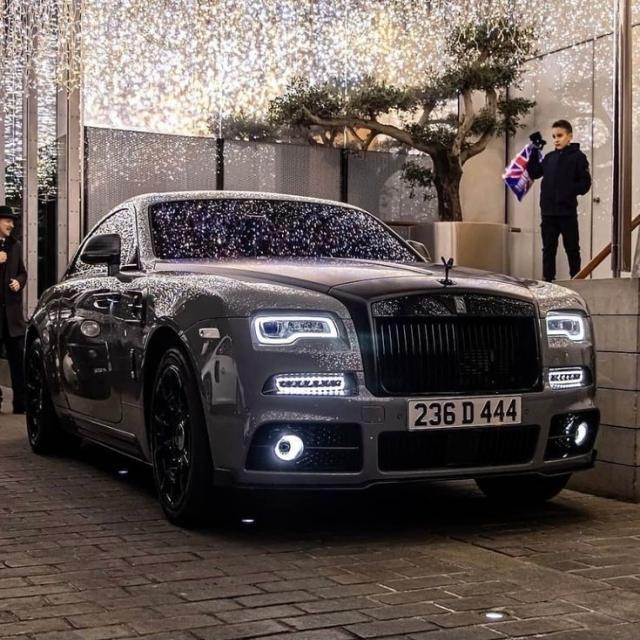Placas: (403, 394, 527, 434)
